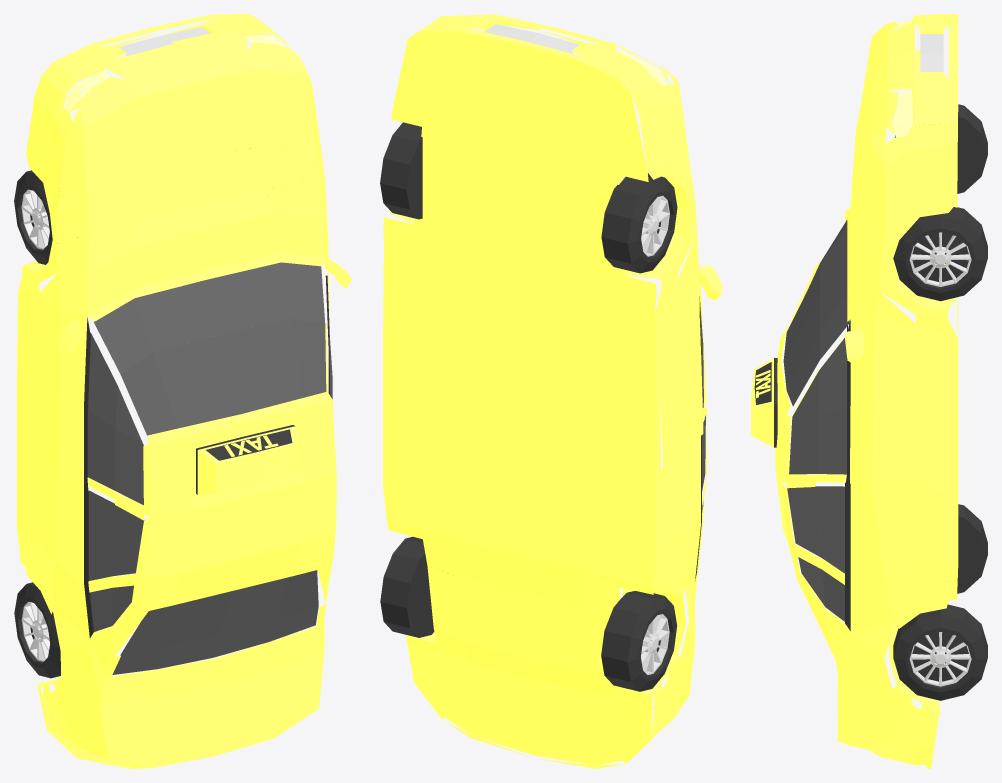
The model's file is taxi.glb.
3 views of the same model, side by side, from view 1: azimuth 30°, elevation 25°; view 2: azimuth 150°, elevation 25°; view 3: azimuth 270°, elevation 25° (orthographic). The views are drawn at different scales.
Parts seen in each view (by area): view 1: Taxi, Taxi_BackWheels, Taxi_FrontLeftWheel; view 2: Taxi, Taxi_BackWheels, Taxi_FrontLeftWheel, Taxi_FrontRightWheel; view 3: Taxi, Taxi_BackWheels, Taxi_FrontRightWheel, Taxi_FrontLeftWheel.
Part boxes in pixels (box(x1,y1,x2,y2)): Taxi: box(17, 14, 351, 768); Taxi_BackWheels: box(14, 582, 60, 678); Taxi_FrontLeftWheel: box(14, 170, 52, 264); Taxi: box(383, 14, 722, 768); Taxi_BackWheels: box(380, 536, 677, 691); Taxi_FrontLeftWheel: box(601, 173, 677, 273); Taxi_FrontRightWheel: box(380, 122, 422, 219); Taxi: box(751, 14, 958, 768); Taxi_BackWheels: box(893, 504, 987, 700); Taxi_FrontRightWheel: box(893, 207, 987, 301); Taxi_FrontLeftWheel: box(895, 104, 987, 193).
Size of the model in its own units: 181 by 422 by 131.
